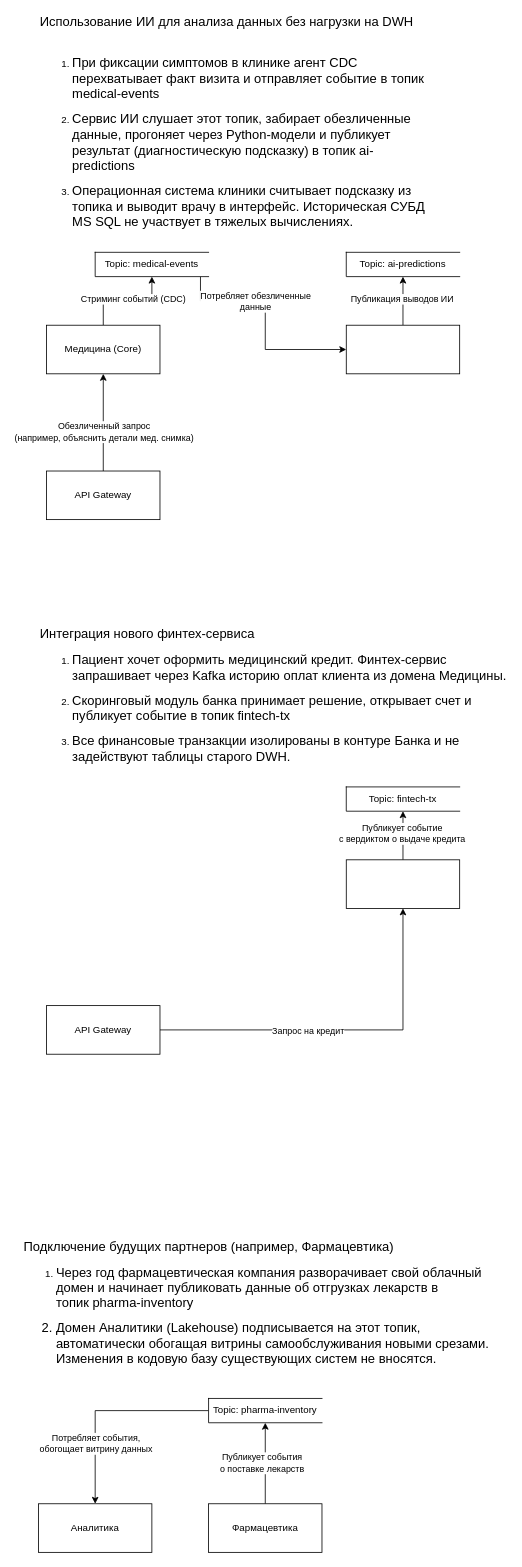
This 522x1567 diagram has some shape labels left out. The box of each missing label's shape, as (x1, y1, x2, y2) in pixels:
ИИ Сервис: (345, 324, 460, 374)
Финтех: (345, 859, 460, 908)
